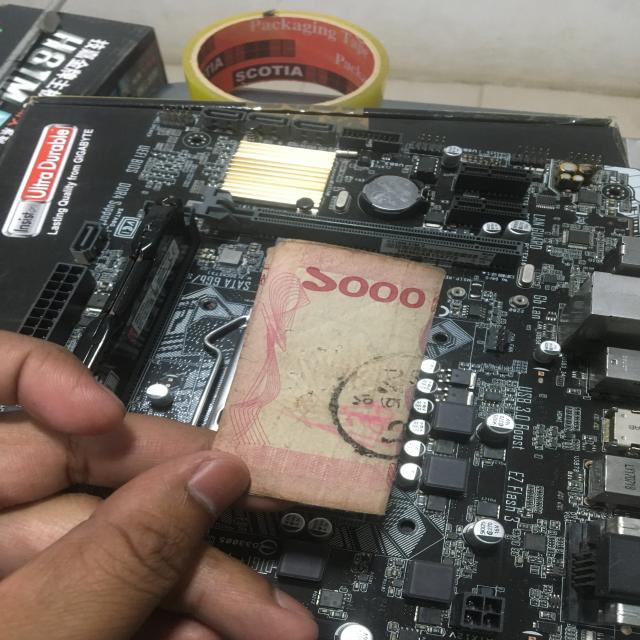Taka: (237, 251, 435, 523)
